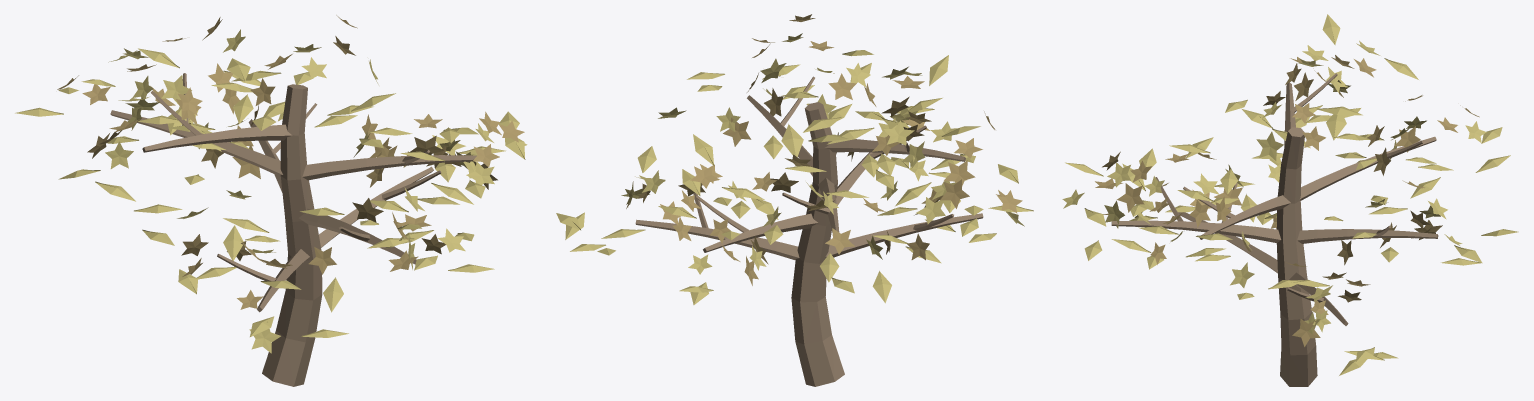
Rendered from SM_PlantBlossomWiltedLod1.fbx.
3 views of the same model, side by side, from view 1: azimuth 30°, elevation 25°; view 2: azimuth 150°, elevation 25°; view 3: azimuth 270°, elevation 25° (orthographic). The views are drawn at different scales.
Visible parts, largest first — view 1: PlantBlossomWiltedLod1; view 2: PlantBlossomWiltedLod1; view 3: PlantBlossomWiltedLod1.
Part boxes in pixels (left/top/right/bottom): PlantBlossomWiltedLod1: left=15, top=15, right=527, bottom=386; PlantBlossomWiltedLod1: left=556, top=14, right=1033, bottom=386; PlantBlossomWiltedLod1: left=1062, top=14, right=1518, bottom=386.
Size of the model in its own units: 1.99 by 1.55 by 2.07.
